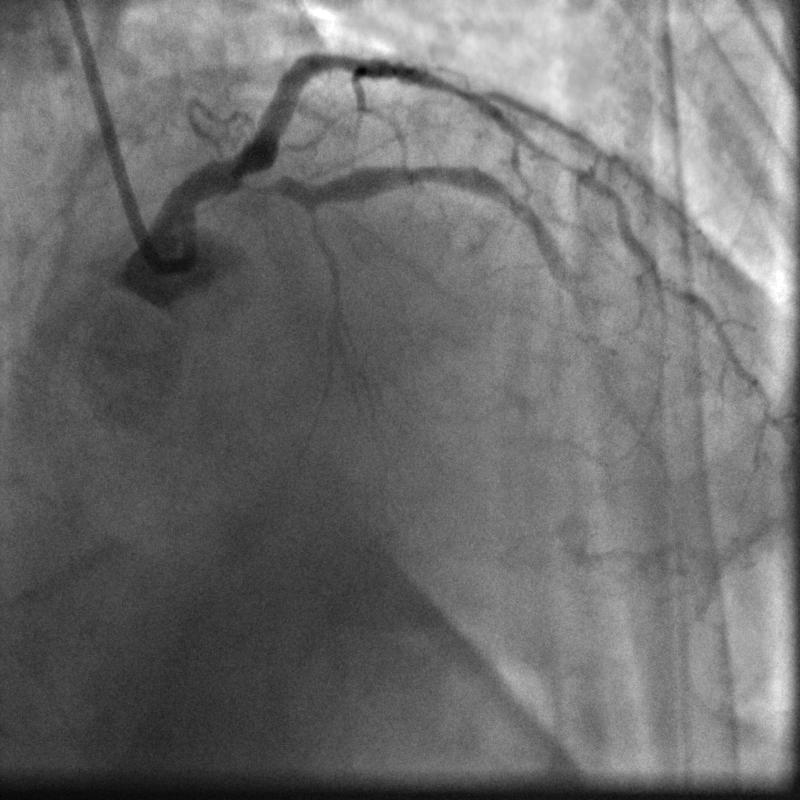Stenosis: (242, 161, 294, 201)
